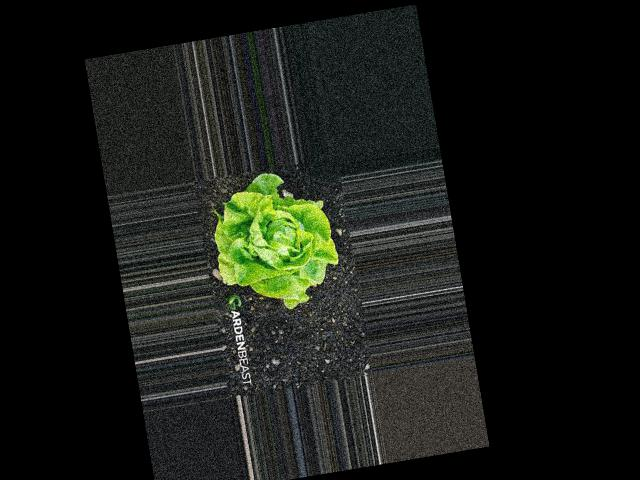lettuce: (210, 186, 335, 302)
